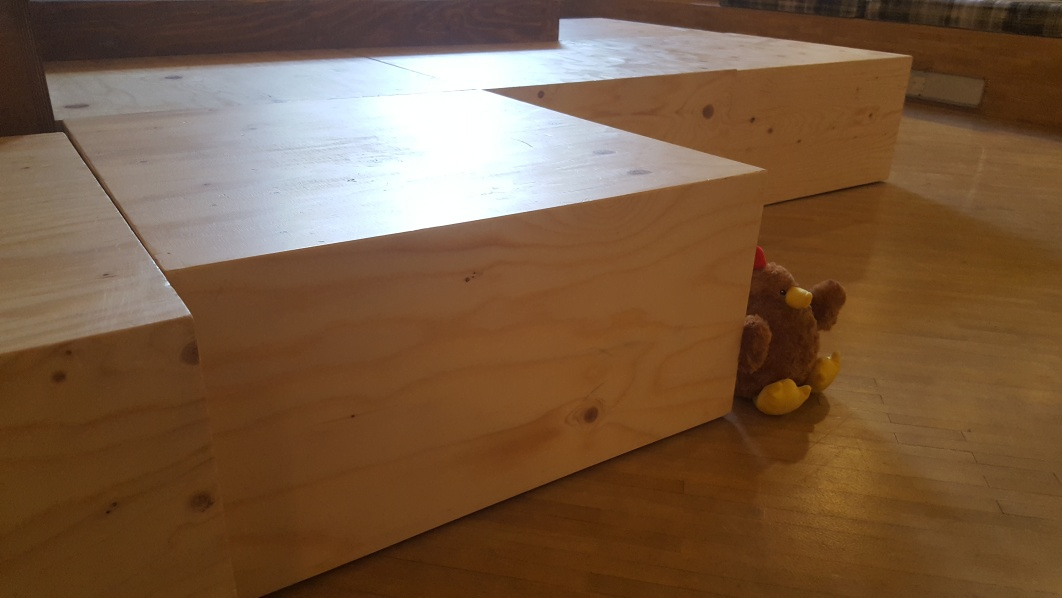chicken: (738, 246, 846, 417)
